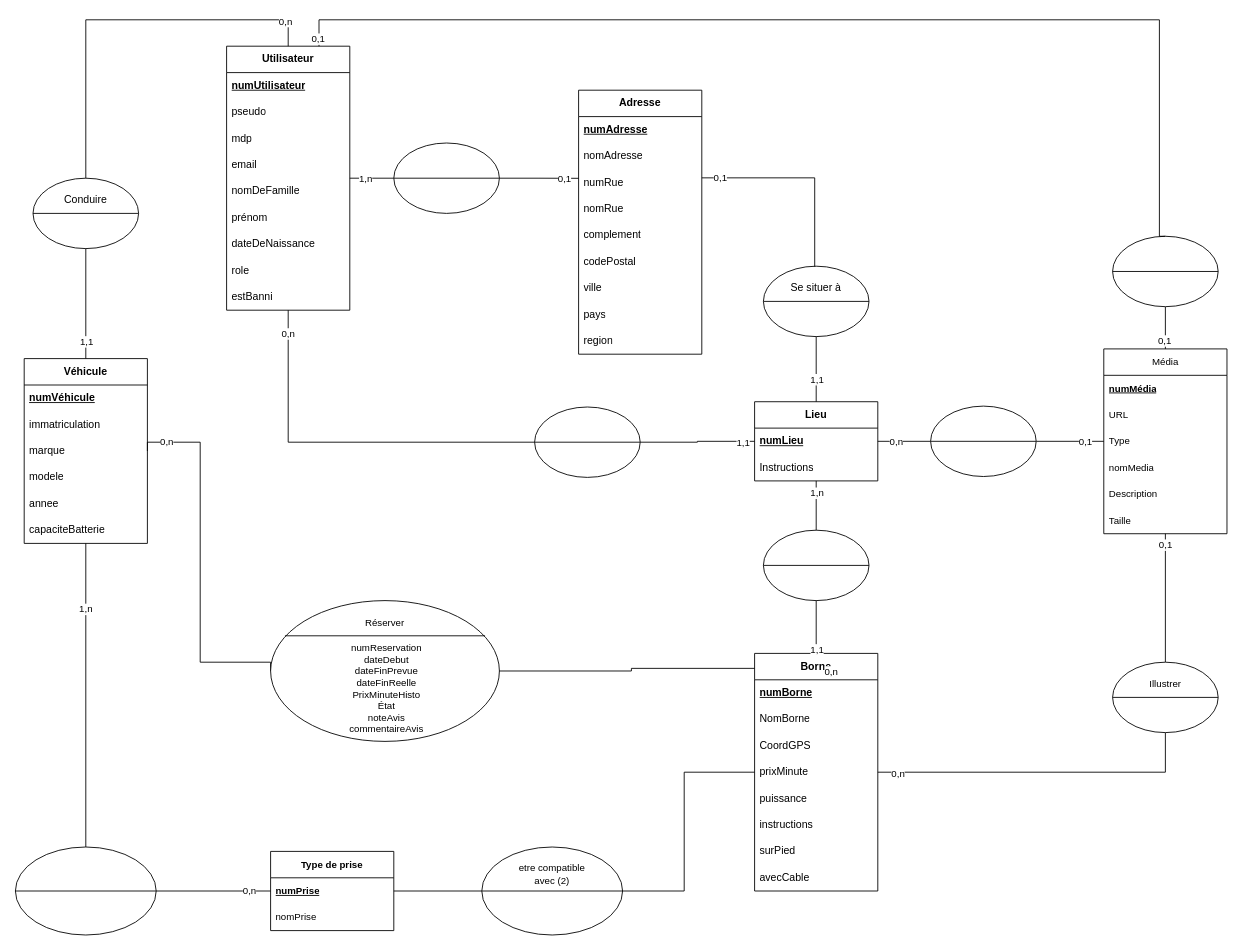
Some shapes in this 1243 by 950 pixel diagram are drawn without their labels. Here are the shapes that lost their labels. From the top down, the centre of each, then its label:
the point at 446,177: Résider
the point at 1165,271: Illustrer (3)
the point at 587,441: Appartenir
the point at 983,441: Illustrer (2)
the point at 816,565: Contenir
the point at 85,890: etre compatible avec
